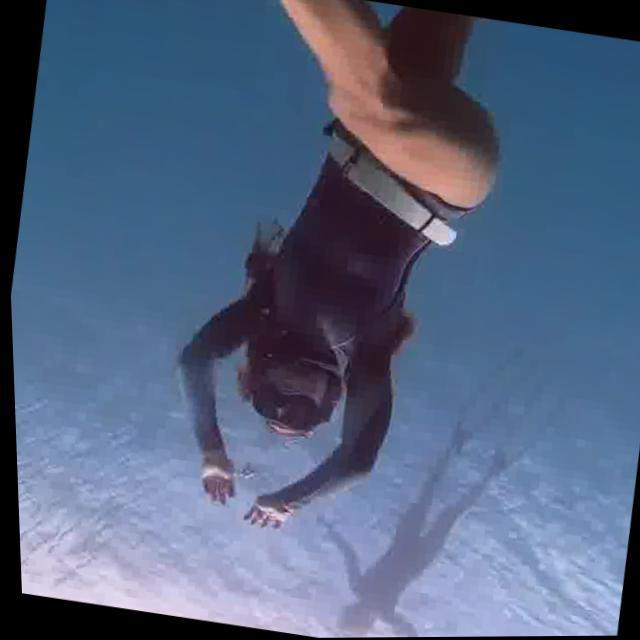human: (117, 0, 538, 564), (288, 415, 511, 638)
